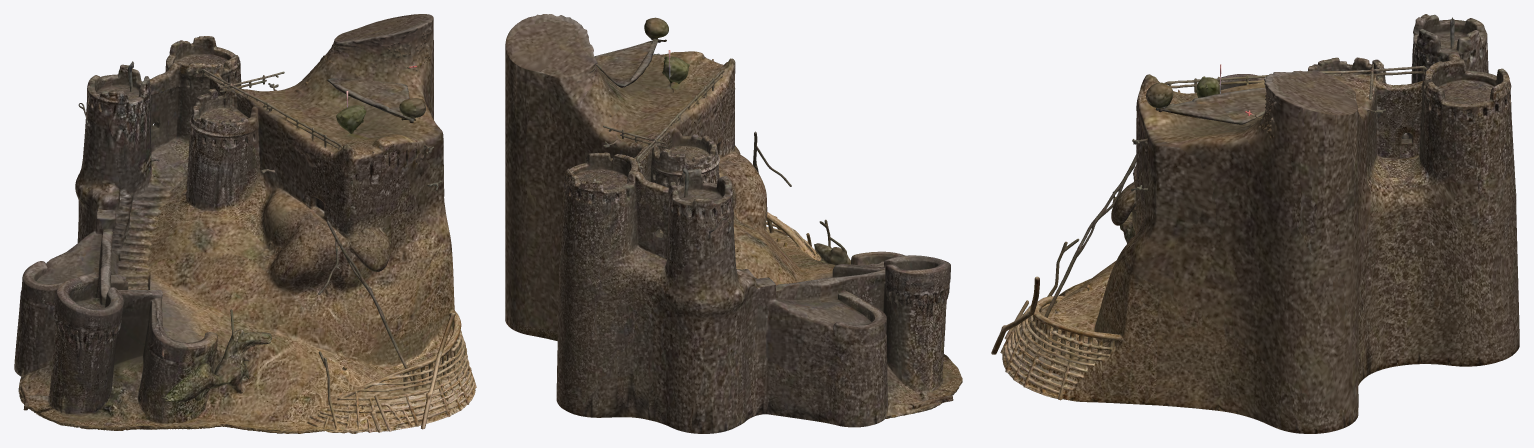
The model's file is sinhagad.glb.
3 views of the same model, side by side, from view 1: azimuth 30°, elevation 25°; view 2: azimuth 150°, elevation 25°; view 3: azimuth 270°, elevation 25° (orthographic). The views are drawn at different scales.
Parts seen in each view (by area): view 1: tripo_node_20b933b9-8ac3-4bd5-b18d-7a1ed83b38da; view 2: tripo_node_20b933b9-8ac3-4bd5-b18d-7a1ed83b38da; view 3: tripo_node_20b933b9-8ac3-4bd5-b18d-7a1ed83b38da.
Boxes of the visible parts, x1,y1,x2,y2 form: tripo_node_20b933b9-8ac3-4bd5-b18d-7a1ed83b38da: [14, 14, 476, 433]; tripo_node_20b933b9-8ac3-4bd5-b18d-7a1ed83b38da: [505, 14, 962, 433]; tripo_node_20b933b9-8ac3-4bd5-b18d-7a1ed83b38da: [991, 14, 1519, 433].
Bounding box in the file's own units: 0.9802 × 0.6413 × 0.9154.
1 material, 1 textured.
